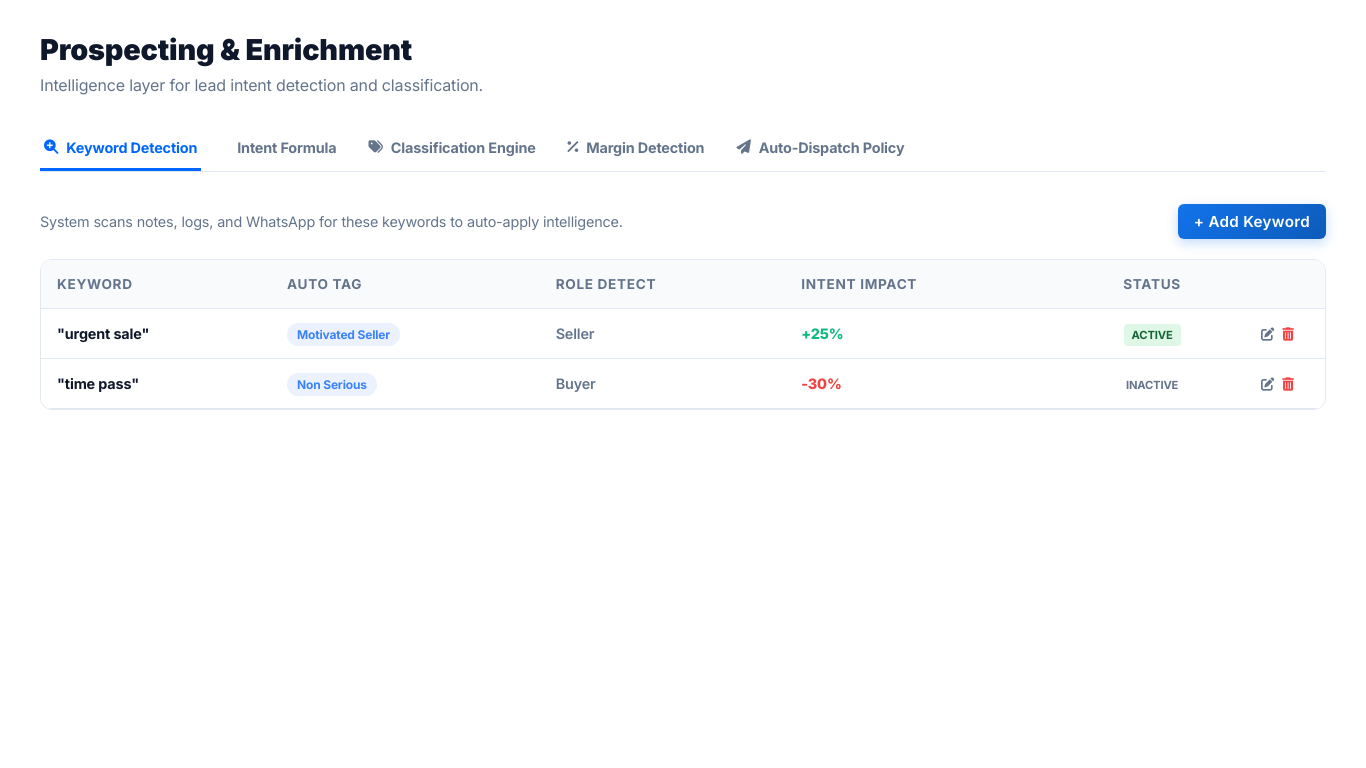
Test: EnrichmentSettingsPage with DataTable › opens modal in edit mode with existing values when edit icon is clicked
Click the button titled "Edit Rule" at (1268, 334), box x1=1261 y1=326 x2=1274 y2=342
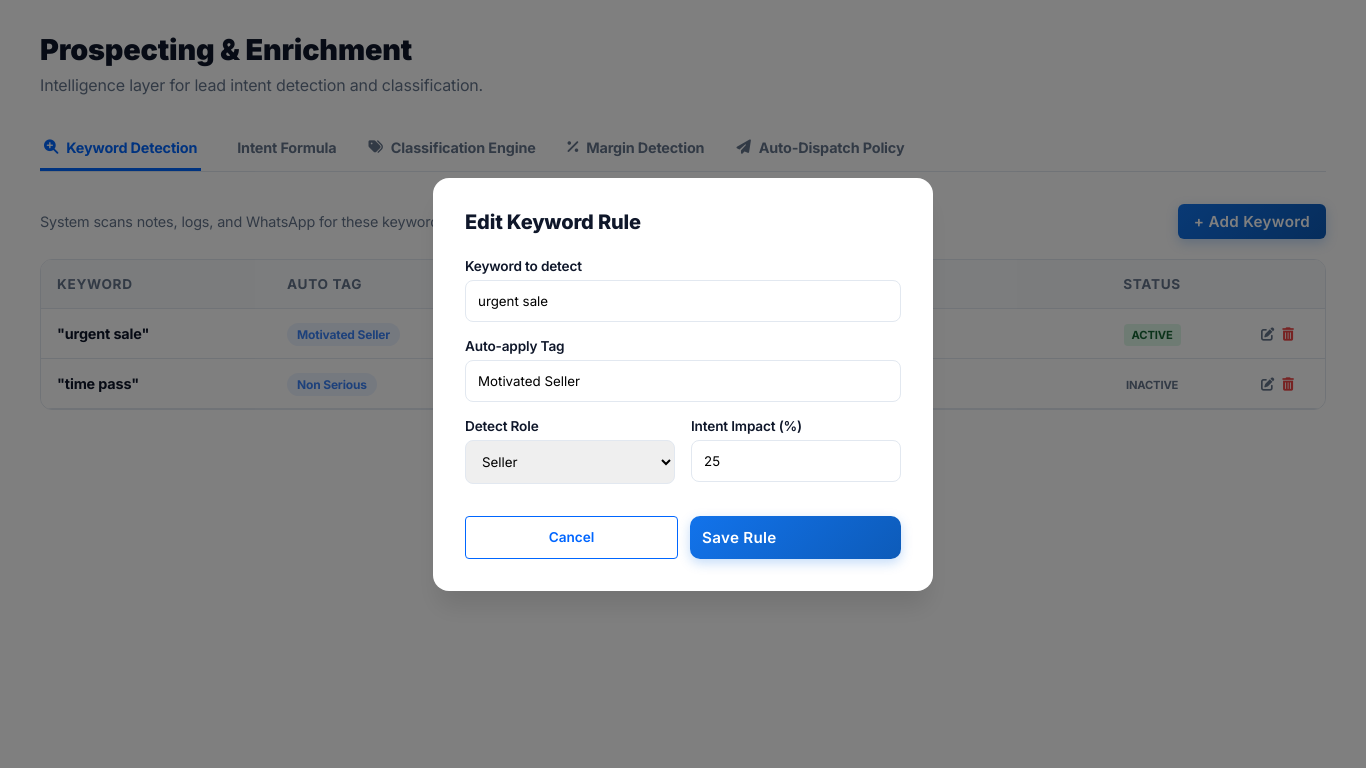
Now the heading "Edit Keyword Rule" is shown, box x1=465 y1=210 x2=641 y2=234
Now the field showing "urgent sale" below "Keyword to detect" is shown, box x1=465 y1=280 x2=901 y2=322
Now the field showing "Motivated Seller" below "Auto-apply Tag" is shown, box x1=465 y1=360 x2=901 y2=402
